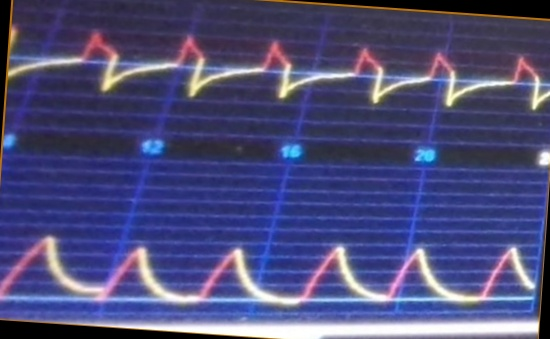Normal Flow: (12, 25, 550, 114)
Normal Volume: (2, 225, 533, 312)
